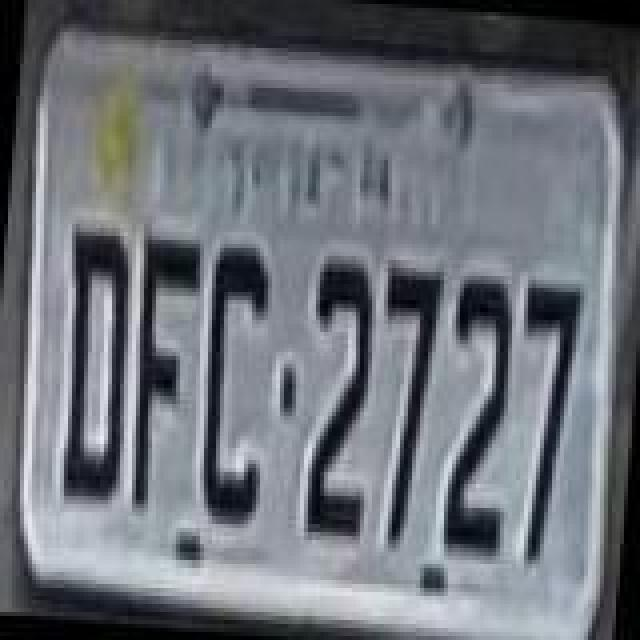2: (294, 256, 386, 544), (434, 272, 526, 560)
7: (502, 278, 586, 570), (362, 264, 446, 552)
C: (190, 238, 282, 530)
D: (48, 224, 144, 512)
F: (120, 232, 208, 520)
